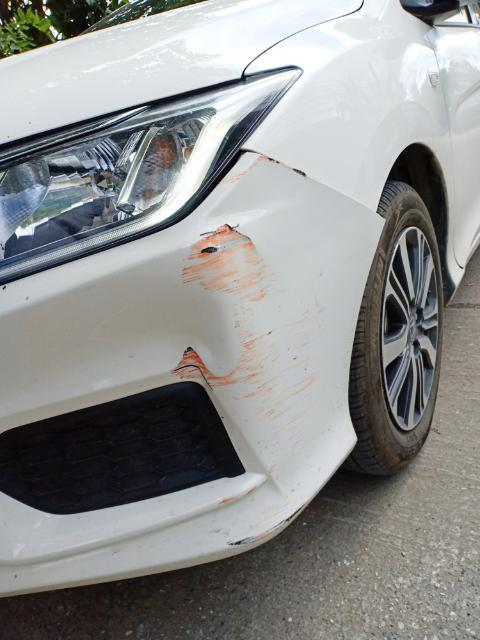scratch: (171, 219, 314, 454), (224, 501, 308, 549), (226, 150, 311, 184)
